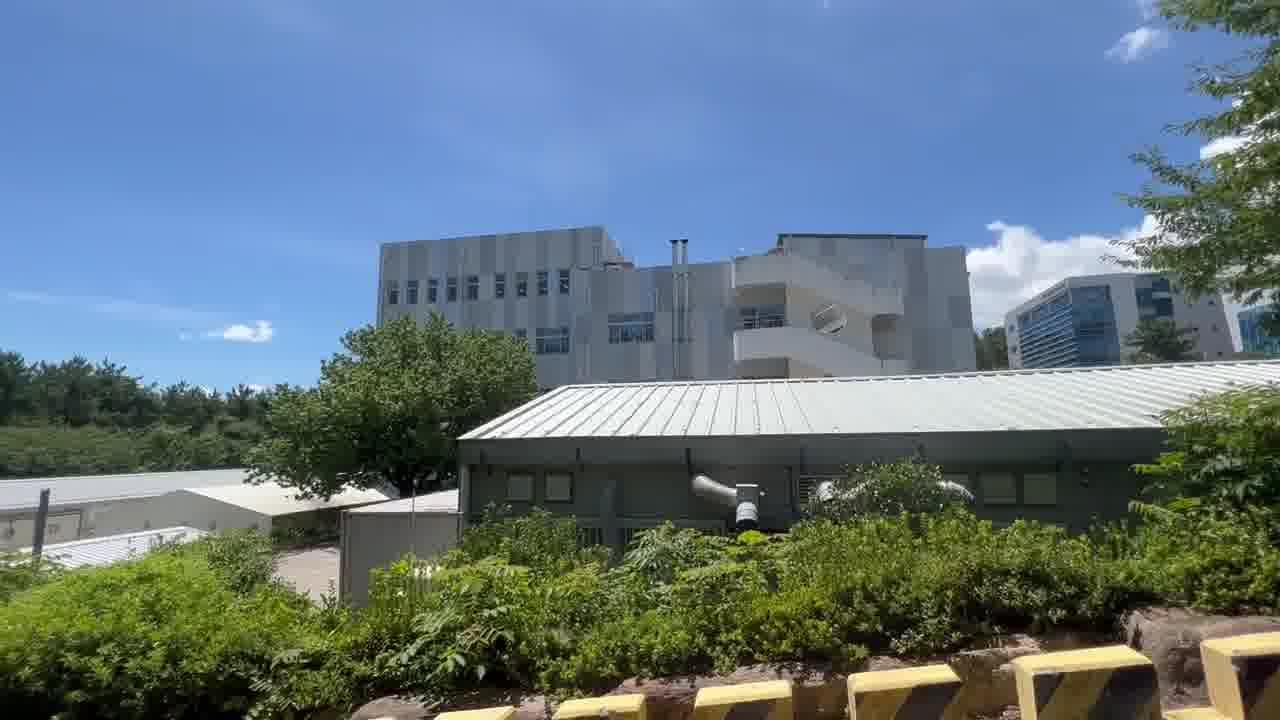building: (389, 221, 988, 380)
